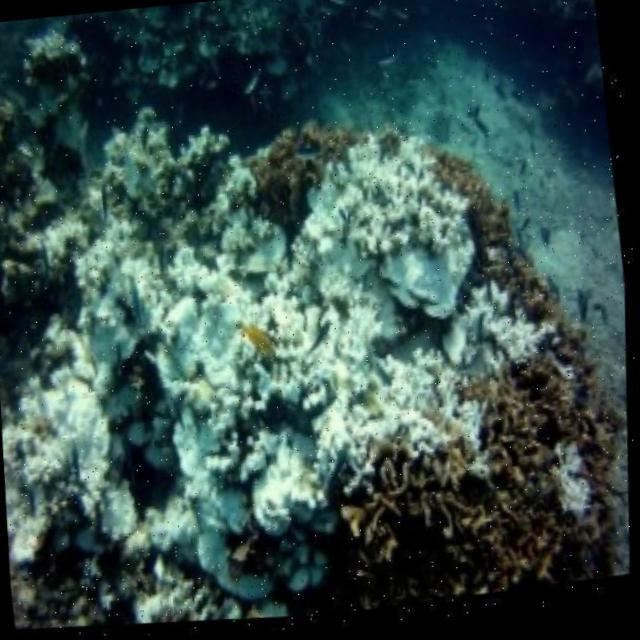Bleached Coral: (0, 98, 547, 607)
